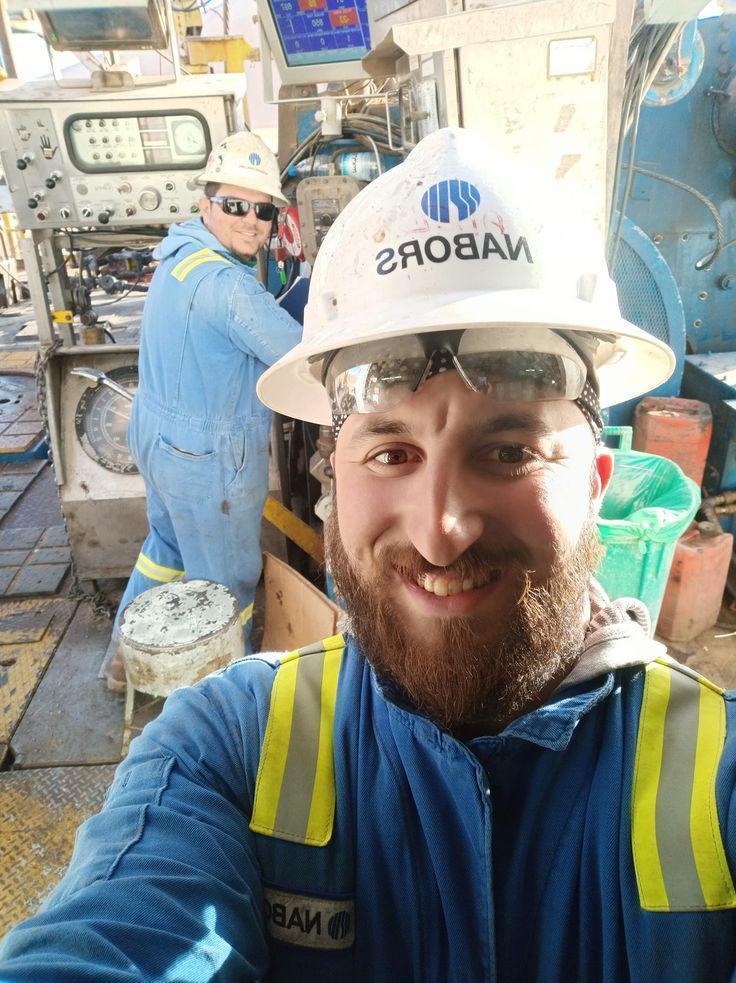helmet: (254, 127, 682, 421), (195, 131, 289, 207)
